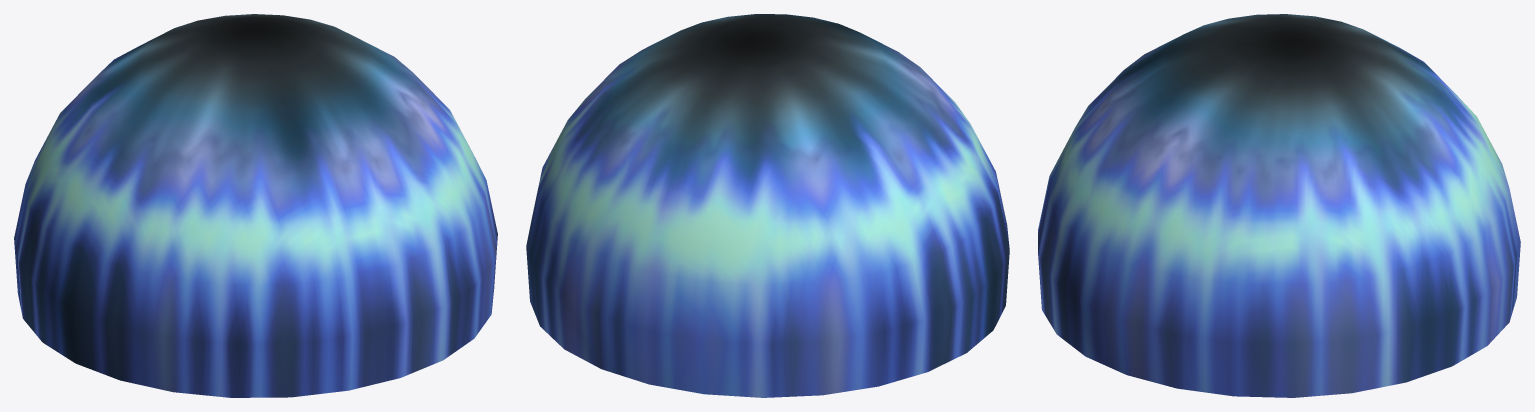
Rendered from fbx_skill_x_102_staff_skill_22.FBX.
3 views of the same model, side by side, from view 1: azimuth 30°, elevation 25°; view 2: azimuth 150°, elevation 25°; view 3: azimuth 270°, elevation 25° (orthographic).
Visible parts, largest first — view 1: Sphere001; view 2: Sphere001; view 3: Sphere001.
Part boxes in pixels (box(x1,y1,x2,y2)): Sphere001: box(14, 14, 497, 397); Sphere001: box(526, 14, 1009, 397); Sphere001: box(1038, 14, 1520, 397).
Bounding box in the file's own units: 205 × 205 × 122.
Materials: 1 (1 with a texture image).
